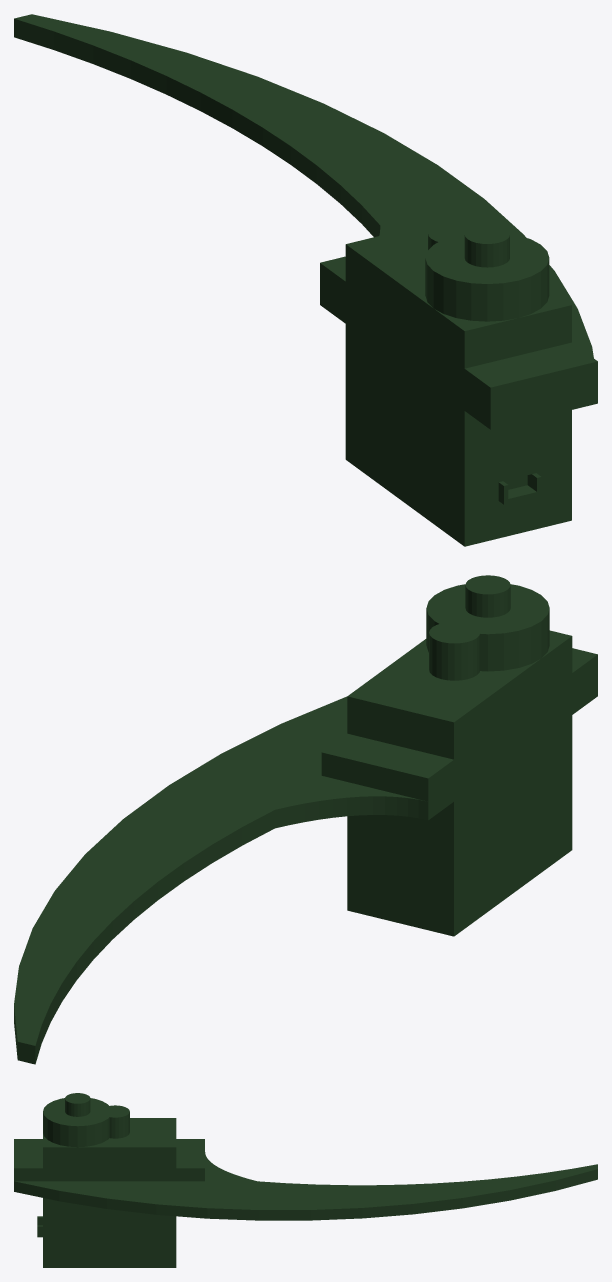
File: ant_link3Leg_5_vis_1.dae
The picture shows the model from 3 angles, top to bottom: view 1: azimuth 30°, elevation 25°; view 2: azimuth 150°, elevation 25°; view 3: azimuth 270°, elevation 25°; orthographic projection. The views are drawn at different scales.
Parts seen in each view (by area): view 1: node; view 2: node; view 3: node.
Boxes of the visible parts, <box> form: node: <box>14,14,597,546</box>; node: <box>14,575,597,1064</box>; node: <box>14,1093,597,1267</box>.
Size of the model in its own units: 0.0356 by 0.0443 by 0.1512.
